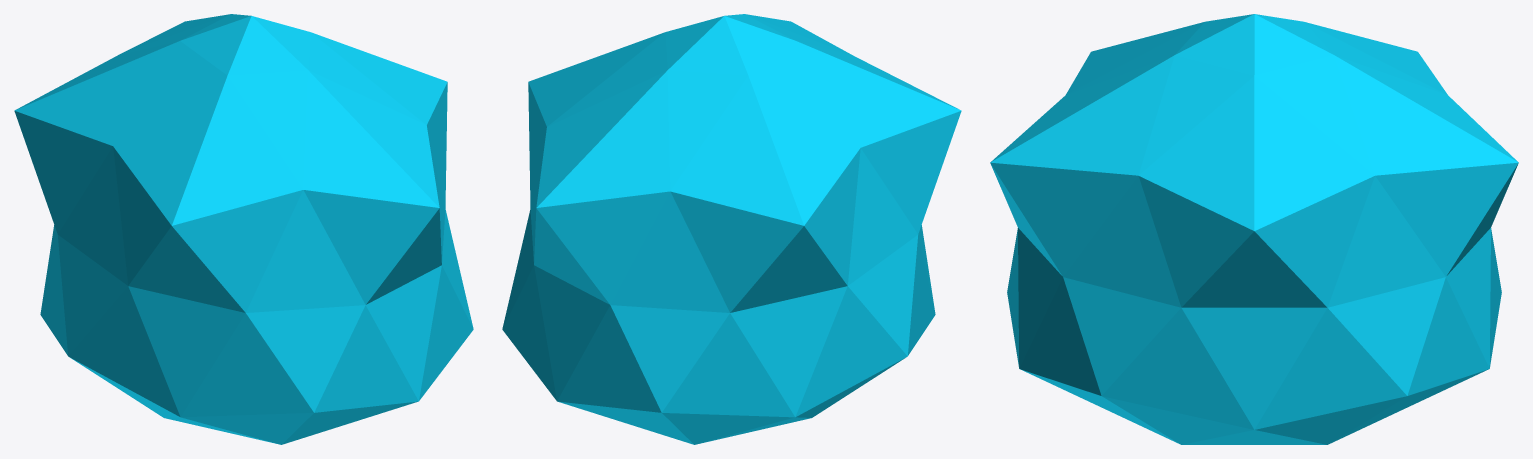
The model's file is LimabeanPollen.fbx.
3 views of the same model, side by side, from view 1: azimuth 30°, elevation 25°; view 2: azimuth 150°, elevation 25°; view 3: azimuth 270°, elevation 25° (orthographic). The views are drawn at different scales.
Parts seen in each view (by area): view 1: Icosphere; view 2: Icosphere; view 3: Icosphere.
Part boxes in pixels (left/top/right/bottom): Icosphere: left=14, top=14, right=473, bottom=444; Icosphere: left=502, top=14, right=961, bottom=444; Icosphere: left=990, top=14, right=1518, bottom=444.
Bounding box in the file's own units: 116 × 112 × 135.
